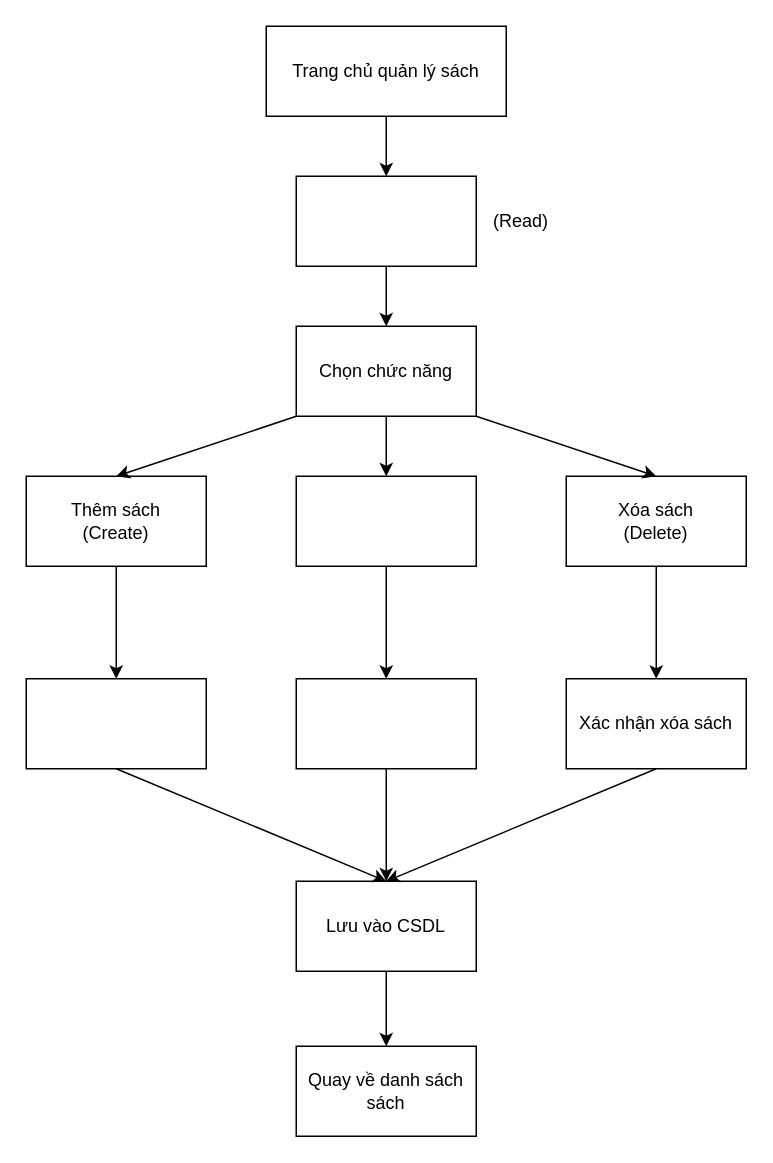
Image size: 773x1163. Some labels were removed from this diagram. Here are the shapes that lost their labels. From the top down, the centre of each, then its label:
point 385,220: Xem danh sách sách
point 385,520: Sửa sách (Update)
point 115,723: Nhập thông tin sách mới
point 385,723: Sửa thông tin sách
